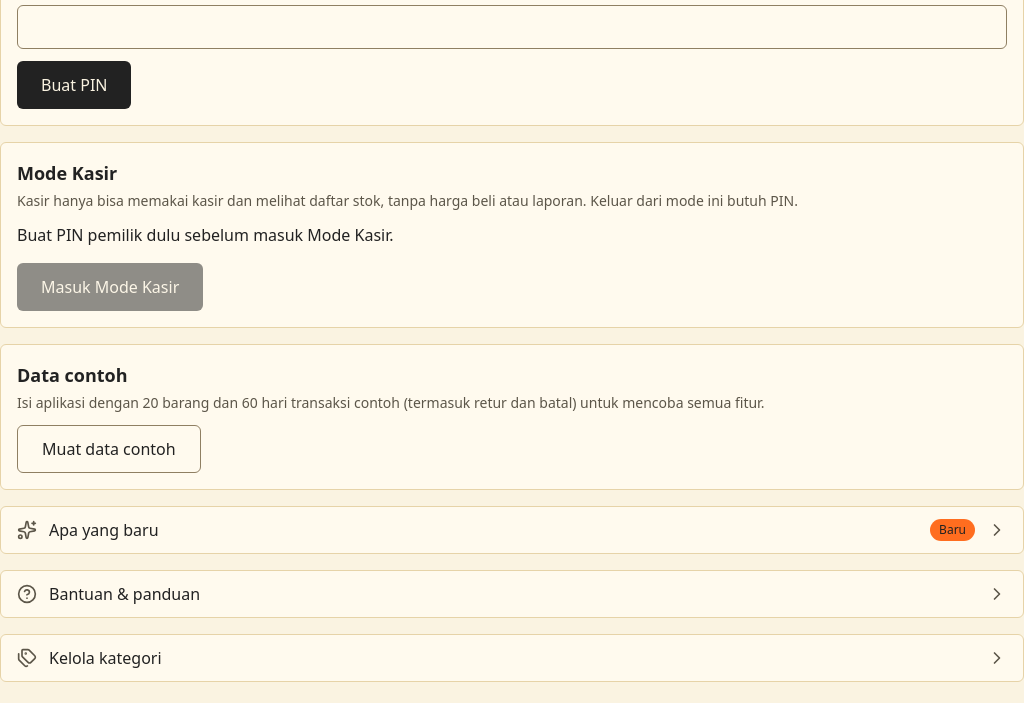
UI data contoh › database kosong › Hapus data contoh meminta konfirmasi, lalu mengembalikan database kosong dan menghapus banner
(page scrolled)
Click the button "Muat data contoh" at (109, 448), box [17,424,201,472]
(page scrolled)
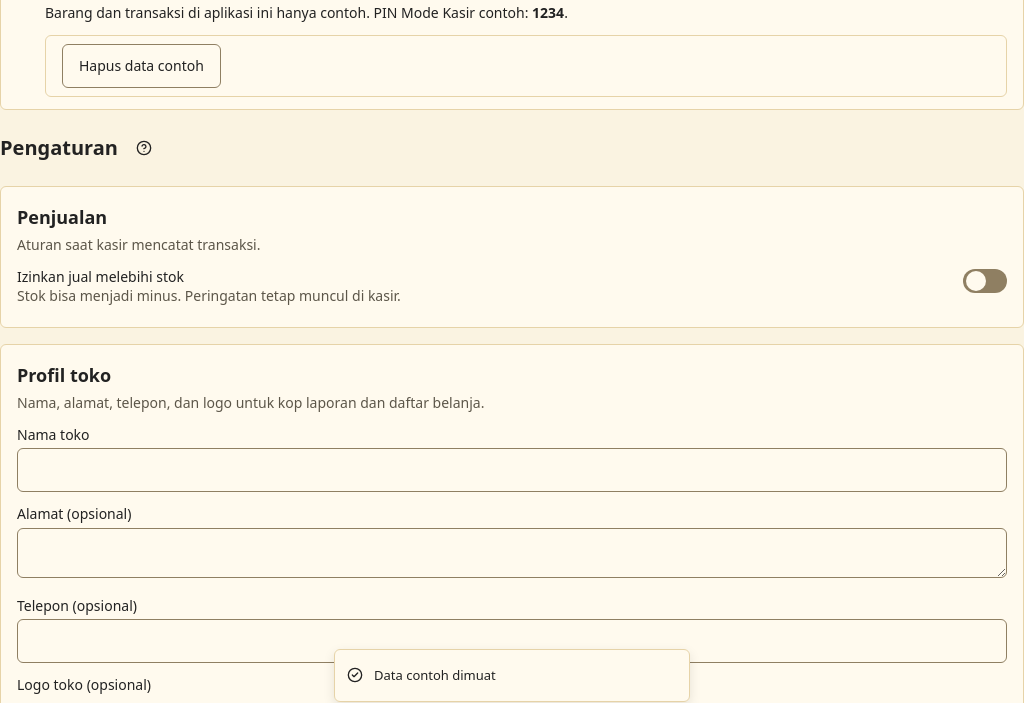
expect the text "1234" is shown: met, box [532,3,564,22]
Click the heading "Hapus data contoh" at (141, 66), box [62,44,221,88]
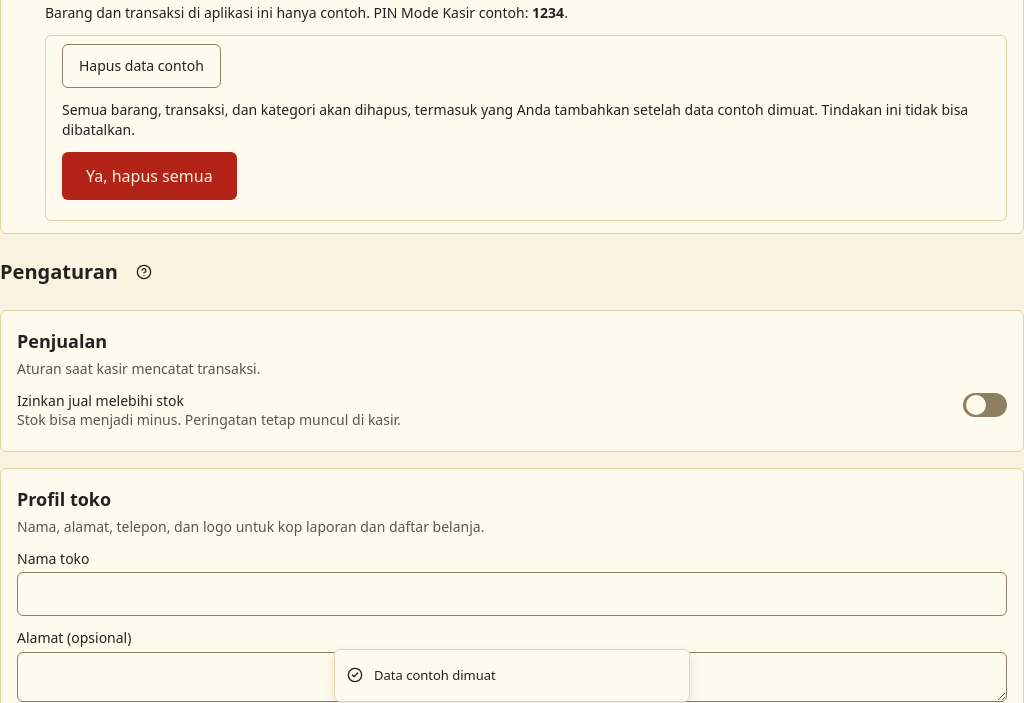
expect the text "tidak bisa dibatalkan" is shown: met, box [62,100,968,139]
Click the button "Ya, hapus semua" at (149, 176), box [62,152,237,200]
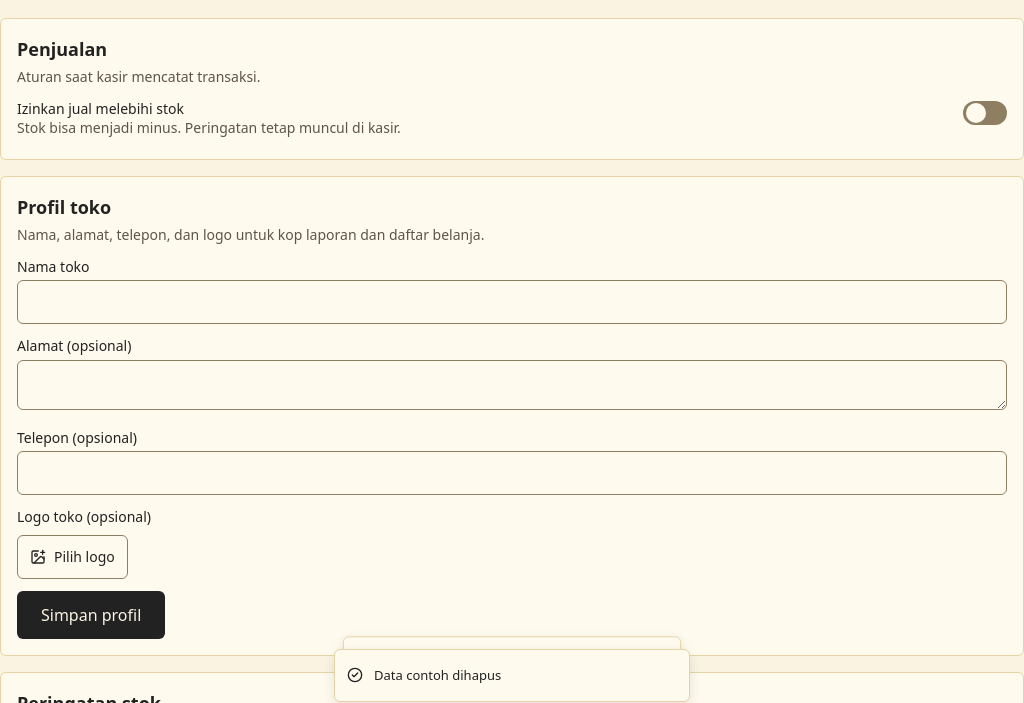
expect the text "1234" is gone: met
